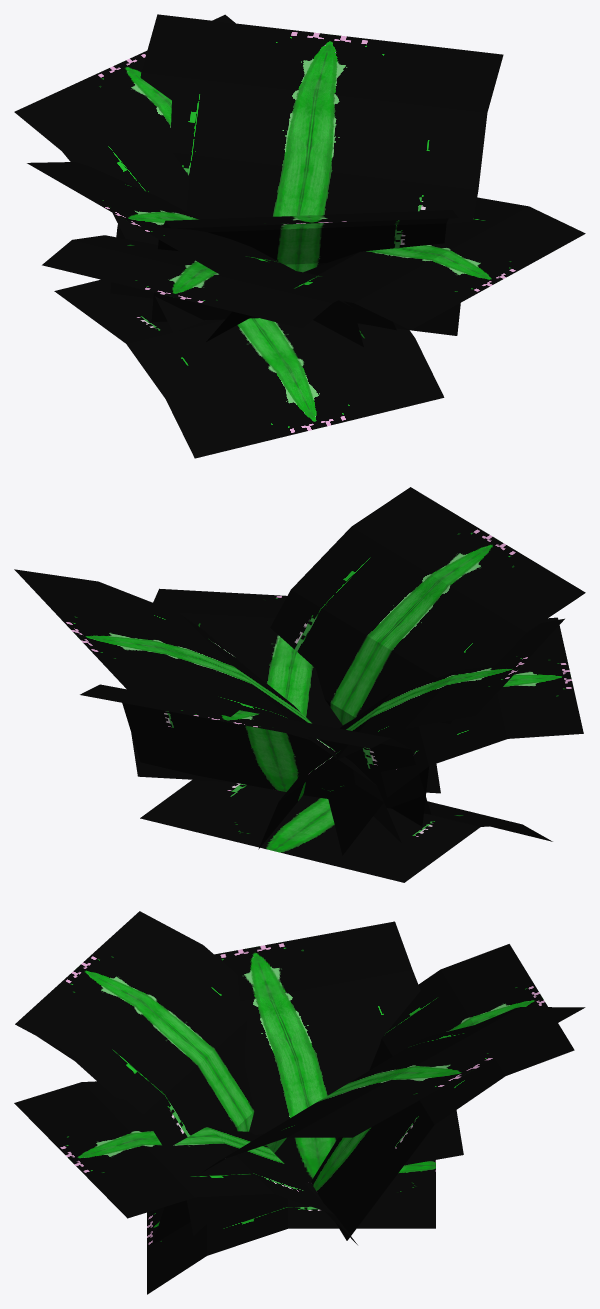
File: Grass.fbx
3 renders of one model, top to bottom at view 1: azimuth 30°, elevation 25°; view 2: azimuth 150°, elevation 25°; view 3: azimuth 270°, elevation 25°, orthographic. The views are drawn at different scales.
Parts seen in each view (by area): view 1: Plane.003, Plane; view 2: Plane.003, Plane; view 3: Plane.003, Plane.
Part boxes in pixels (box(x1,y1,x2,y2)): Plane.003: box(14, 14, 585, 346); Plane: box(54, 279, 444, 458); Plane.003: box(14, 487, 585, 855); Plane: box(140, 779, 552, 882); Plane.003: box(14, 911, 585, 1244); Plane: box(147, 1160, 435, 1294).
Size of the model in its own units: 400 by 187 by 387.
